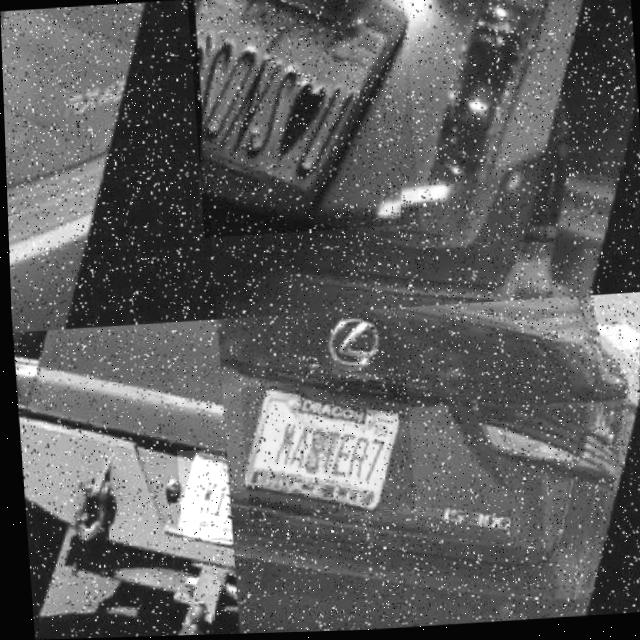LicensePlate: (187, 0, 418, 239), (243, 388, 405, 512), (178, 451, 226, 538)
